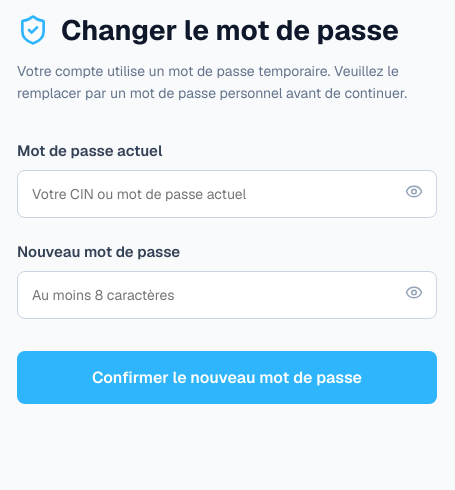
Test case: auth pages › should validate change password form when fields are empty
Click the button "Confirmer le nouveau mot de passe". click: (227, 377)
box: [17,351,437,404]
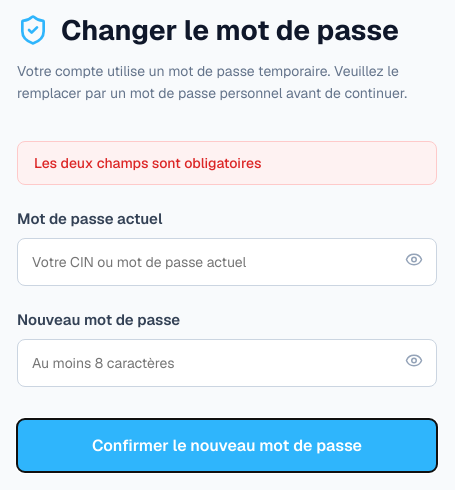
Now the text "Les deux champs sont obligatoires" is shown, box [17,141,437,185]
